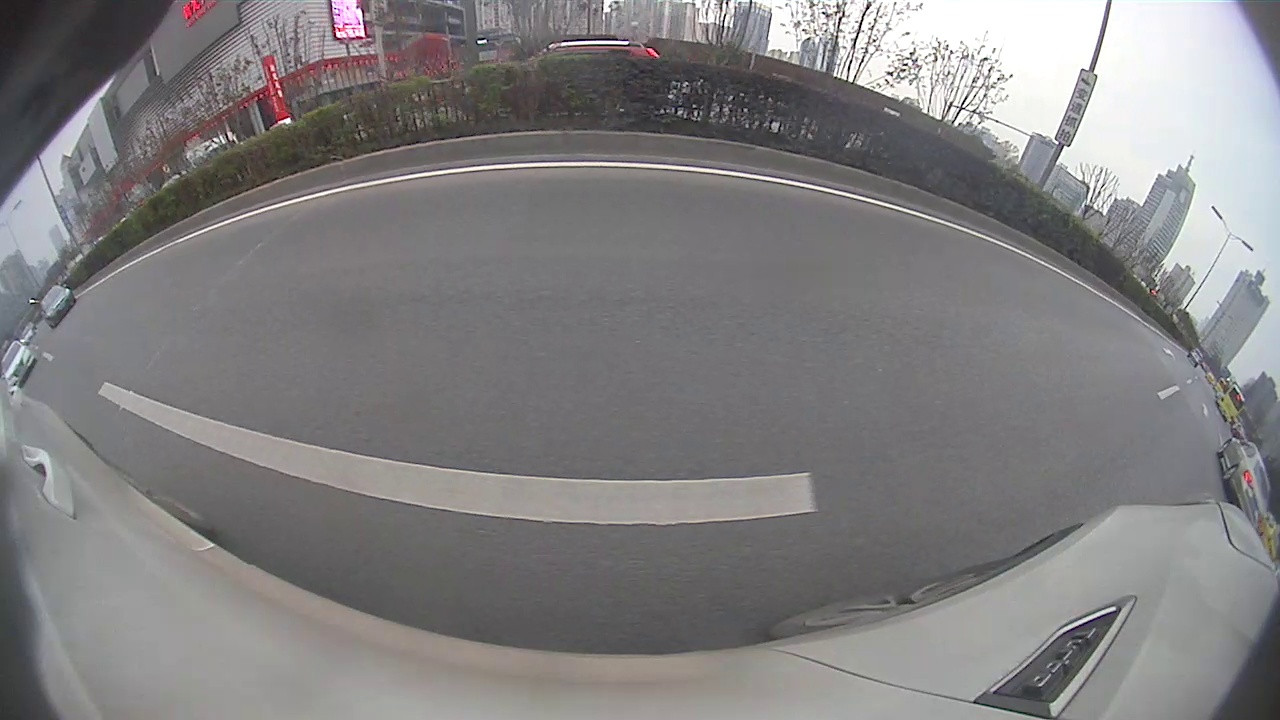car: (1217, 434, 1269, 524), (38, 285, 77, 327)
